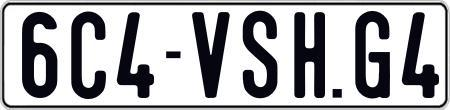4: (114, 12, 155, 103), (399, 11, 434, 97)
6: (19, 12, 60, 104)
C: (71, 11, 106, 102)
G: (353, 9, 390, 99)
H: (292, 9, 325, 95)
S: (240, 8, 278, 101)
V: (189, 9, 229, 95)
